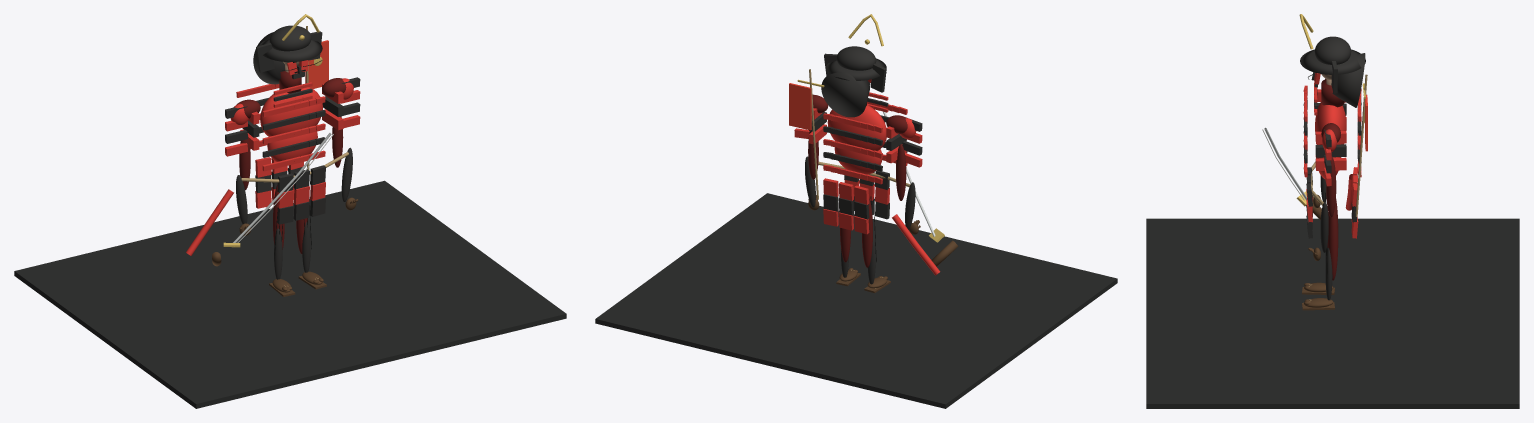
Rendered from samurai_character.glb.
3 views of the same model, side by side, from view 1: azimuth 30°, elevation 25°; view 2: azimuth 150°, elevation 25°; view 3: azimuth 270°, elevation 25° (orthographic). The views are drawn at different scales.
Visible parts, largest first — view 1: matte charcoal inspection plinth, upper do cuirass fitted shell, segmented kabuto helmet bowl, wide kabuto brim, lower do cuirass narrowed shell, cloth sashimono banner panel, layered rear shikoro neck guard, lacquered saya scabbard at left hip; view 2: matte charcoal inspection plinth, layered rear shikoro neck guard, upper do cuirass fitted shell, cloth sashimono banner panel, segmented kabuto helmet bowl, lower do cuirass narrowed shell, wide kabuto brim, lacquered saya scabbard at left hip, left armored upper arm; view 3: matte charcoal inspection plinth, layered rear shikoro neck guard, segmented kabuto helmet bowl, wide kabuto brim, upper do cuirass fitted shell, right hakama trouser leg, right armored upper arm, bamboo sashimono back pole, neck guard collar, right kote forearm guard.
Part boxes in pixels (x1,y1,x2,y2): matte charcoal inspection plinth: [14, 180, 566, 408]; upper do cuirass fitted shell: [260, 87, 322, 136]; segmented kabuto helmet bowl: [269, 25, 311, 51]; wide kabuto brim: [259, 39, 322, 61]; lower do cuirass narrowed shell: [267, 131, 317, 161]; cloth sashimono banner panel: [305, 40, 328, 88]; layered rear shikoro neck guard: [253, 32, 299, 84]; lacquered saya scabbard at left hip: [186, 189, 233, 255]; matte charcoal inspection plinth: [595, 193, 1117, 408]; layered rear shikoro neck guard: [821, 72, 869, 117]; upper do cuirass fitted shell: [827, 105, 886, 151]; cloth sashimono banner panel: [789, 83, 811, 130]; segmented kabuto helmet bowl: [836, 46, 876, 70]; lower do cuirass narrowed shell: [834, 147, 882, 174]; wide kabuto brim: [826, 58, 886, 80]; lacquered saya scabbard at left hip: [892, 214, 940, 275]; left armored upper arm: [896, 144, 906, 200]; matte charcoal inspection plinth: [1146, 218, 1519, 408]; layered rear shikoro neck guard: [1332, 53, 1365, 107]; segmented kabuto helmet bowl: [1314, 36, 1351, 64]; wide kabuto brim: [1300, 49, 1365, 74]; upper do cuirass fitted shell: [1315, 102, 1346, 144]; right hakama trouser leg: [1327, 206, 1338, 280]; right armored upper arm: [1326, 156, 1336, 217]; bamboo sashimono back pole: [1355, 74, 1367, 216]; neck guard collar: [1321, 79, 1344, 107]; right kote forearm guard: [1320, 201, 1328, 252].
Bounding box in the file's own units: 4 × 3.04 × 3.4.
